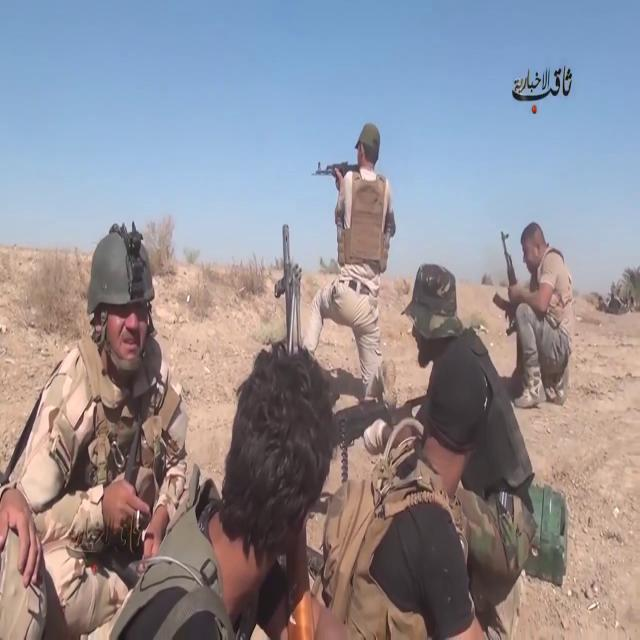long weapon: (489, 222, 530, 334), (305, 151, 359, 185)
